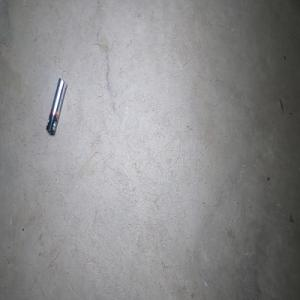Battery: (45, 77, 67, 135)
